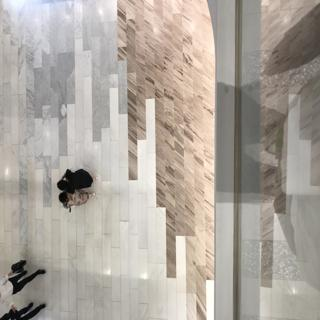person: (53, 189, 105, 216), (54, 167, 101, 188)
